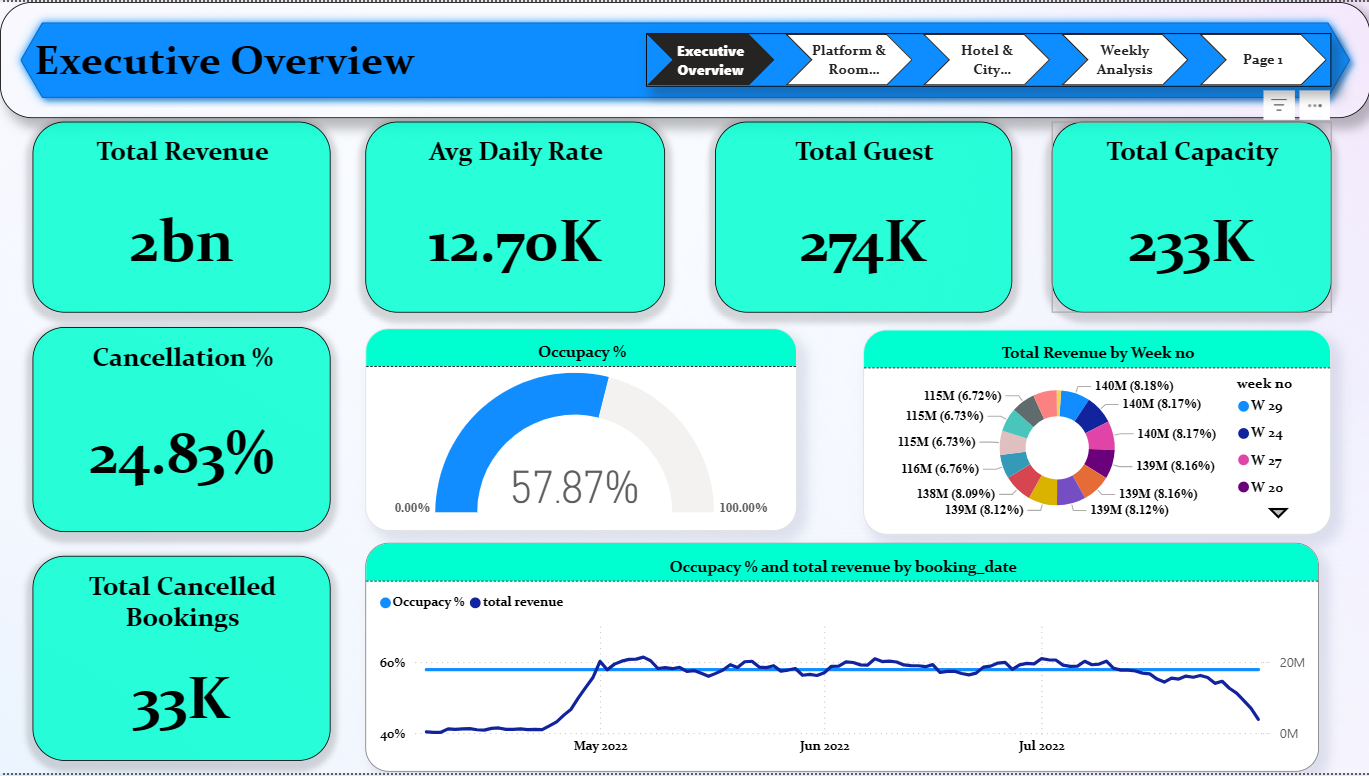

The dashboard page shown, as its layout file describes it:
{"tool":"powerbi","page":{"name":"Executive Overview","canvas":[1280,720],"ordinal":0},"visuals":[{"type":"shape","box":[0,0,1280,108.6],"z":0},{"type":"card","title":"Total Revenue","fields":{"Values":["New measures.total revenue"]},"box":[30,111.2,278.8,178.8],"z":1000},{"type":"card","title":"Avg Daily Rate","fields":{"Values":["New measures.Avg Daily Rate"]},"box":[341.2,111.2,280,178.8],"z":2000},{"type":"card","title":"Total Guest","fields":{"Values":["New measures.Total Guest"]},"box":[667.5,111.2,277.5,178.8],"z":3000},{"type":"gauge","fields":{"Y":["New measures.Occupacy %"]},"box":[341,304.2,403.1,188.9],"z":4000},{"type":"donutChart","title":"Total Revenue by Week no","fields":{"Y":["New measures.total revenue"],"Category":["dim_date.week no"]},"box":[806.1,305.5,437.3,191.4],"z":5000},{"type":"card","title":"Total Capacity","fields":{"Values":["New measures.Total capacity"]},"box":[982.5,111.2,261.2,178.8],"z":6000},{"type":"card","title":"Cancellation %","fields":{"Values":["New measures.Cancellation %"]},"box":[30,303.8,278.8,191.2],"z":7000},{"type":"lineChart","fields":{"Category":["fact_bookings.booking_date"],"Y":["New measures.Occupacy %"],"Y2":["New measures.total revenue"]},"box":[341,505.7,891,214.2],"z":8000},{"type":"card","title":"Total Cancelled Bookings","fields":{"Values":["New measures.Total Cancelled bokkings"]},"box":[30,517.5,278.8,191.2],"z":9000},{"type":"pageNavigator","box":[603.8,28.8,640,50],"z":10000}]}

Visuals, with their boxes in screenshot pixels (x1, y1, x2, y2), scaled from the page's 1280x720 canvas onto the 1369x776 screenshot:
shape: [0,0,1368,117]
"Total Revenue" card: [32,120,330,313]
"Avg Daily Rate" card: [365,120,664,313]
"Total Guest" card: [714,120,1011,313]
gauge - New measures.Occupacy %: [365,328,796,531]
"Total Revenue by Week no" donutChart: [862,329,1330,536]
"Total Capacity" card: [1051,120,1330,313]
"Cancellation %" card: [32,327,330,534]
lineChart - fact_bookings.booking_date x New measures.Occupacy %: [365,545,1318,775]
"Total Cancelled Bookings" card: [32,558,330,764]
pageNavigator: [646,31,1330,85]
